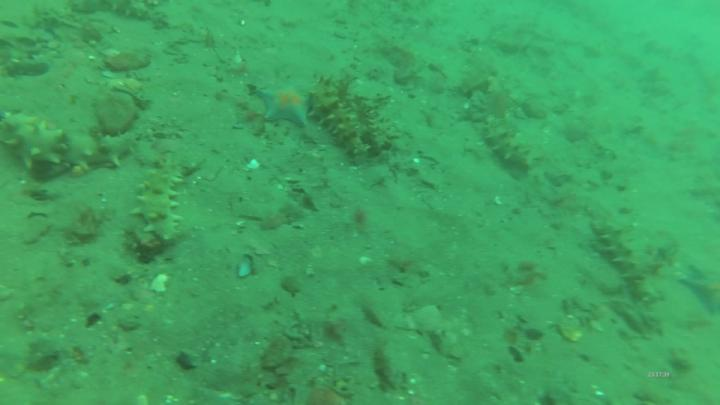holothurian: (2, 112, 141, 177), (588, 212, 664, 307), (307, 72, 373, 159), (131, 155, 188, 242), (482, 119, 536, 172)
starfish: (255, 81, 316, 129)
